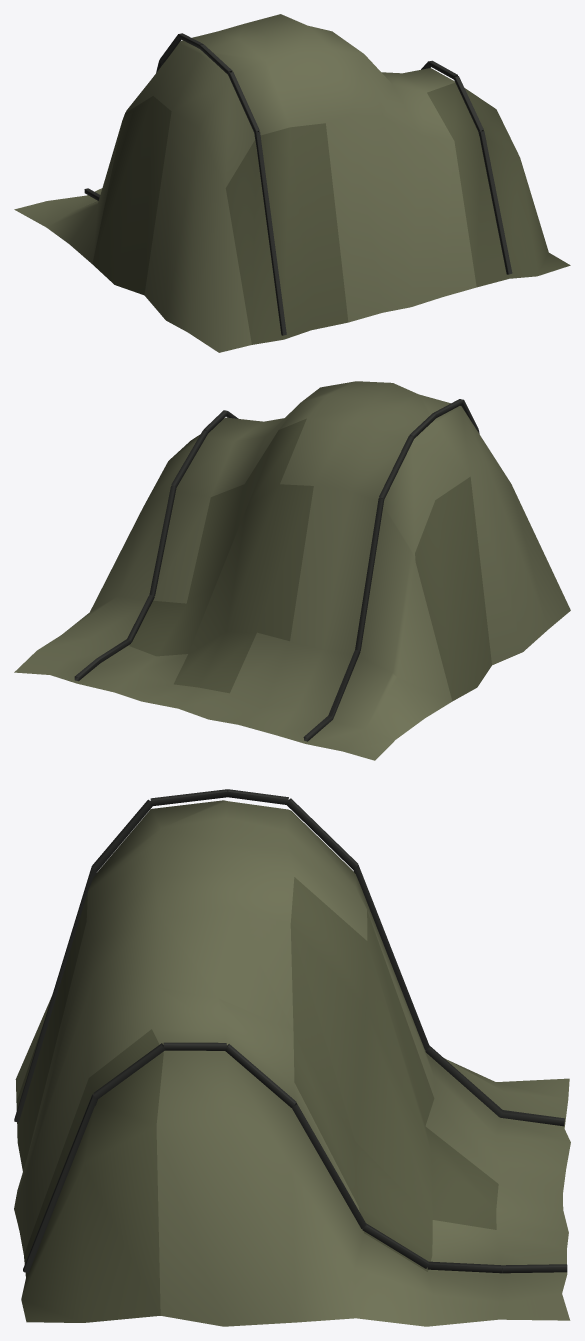
The model's file is tarp_2.glb.
3 views of the same model, one above another, from view 1: azimuth 30°, elevation 25°; view 2: azimuth 150°, elevation 25°; view 3: azimuth 270°, elevation 25° (orthographic). The views are drawn at different scales.
Parts seen in each view (by area): view 1: tarp_2; view 2: tarp_2; view 3: tarp_2.
Boxes of the visible parts, x1,y1,x2,y2 form: tarp_2: (14, 14, 570, 352); tarp_2: (14, 381, 570, 760); tarp_2: (14, 789, 570, 1326).
Size of the model in its own units: 0.9687 by 0.6251 by 0.9212.
1 material, 1 textured.
